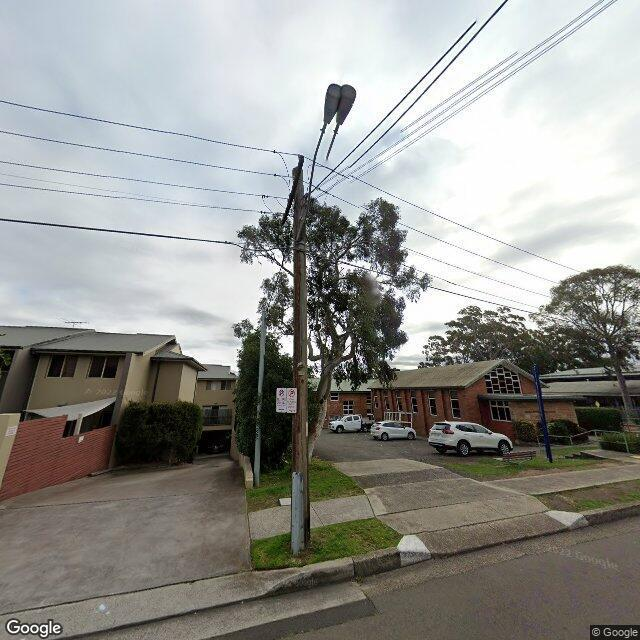crossarm: (280, 155, 305, 227)
steel-pole: (253, 308, 269, 489)
streetlight: (298, 82, 358, 243)
timber-pole: (290, 167, 312, 557)
